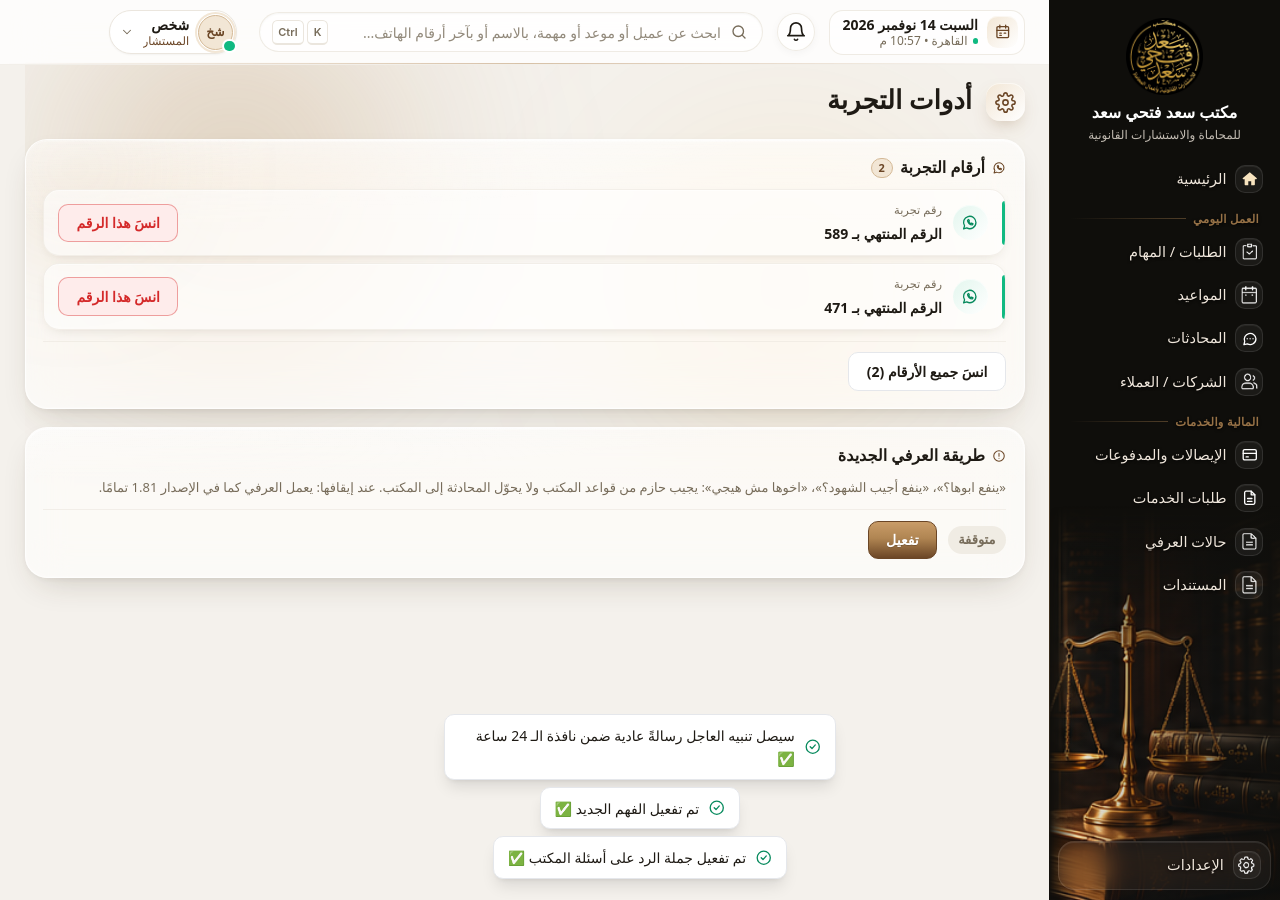
Test case: أدوات التجربة › v1.84: the new Urfi way is switched on after asking, and off is v1.81
expect the text "متوقفة" is shown: met, box [948, 526, 1006, 554]
Click the button "تفعيل". click: (902, 540)
box: [868, 521, 937, 559]
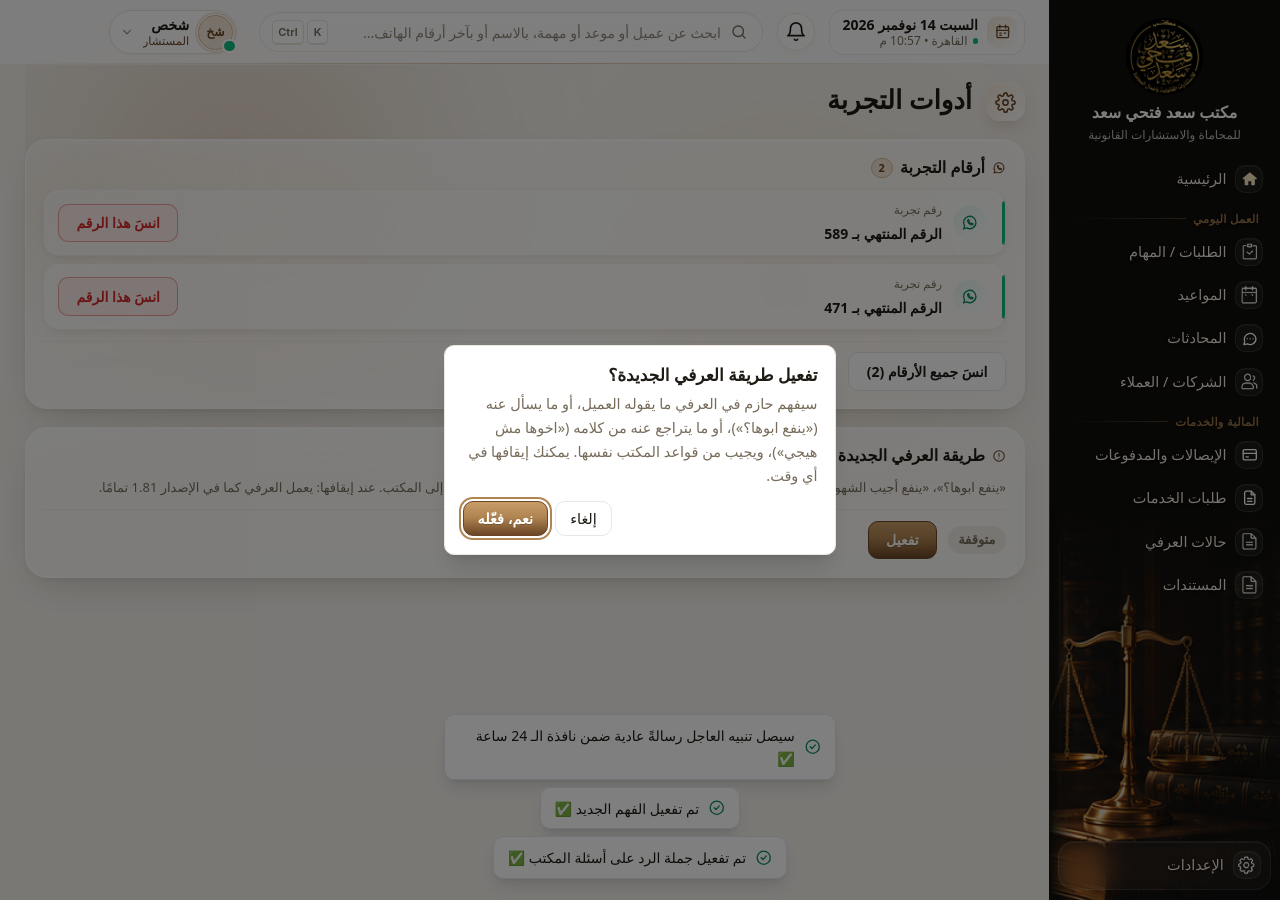
Click the button "نعم، فعّله". click: (505, 519)
box: [462, 501, 548, 536]
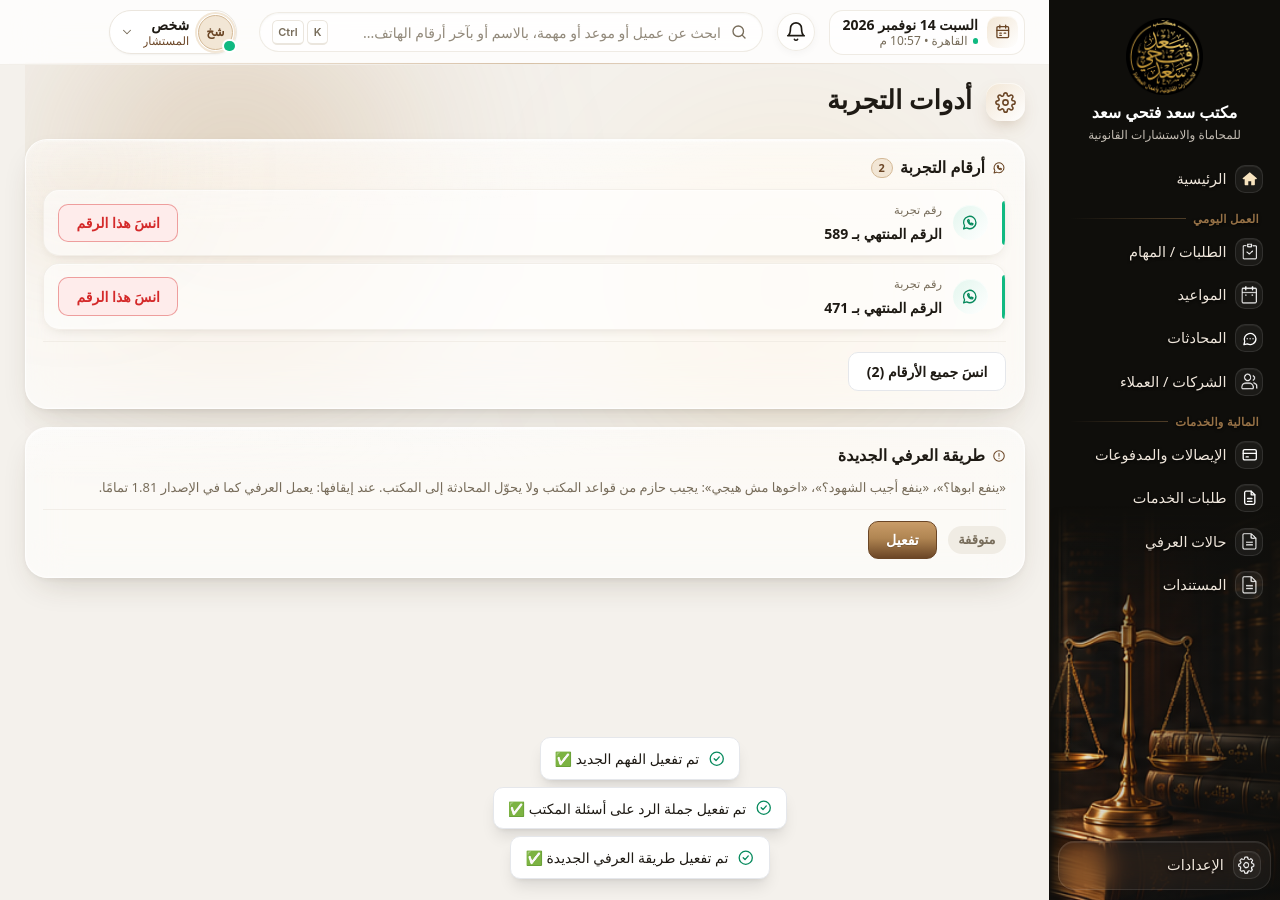
expect the text "تم تفعيل طريقة العرفي الجديدة ✅" is shown: met, box [510, 836, 770, 879]
